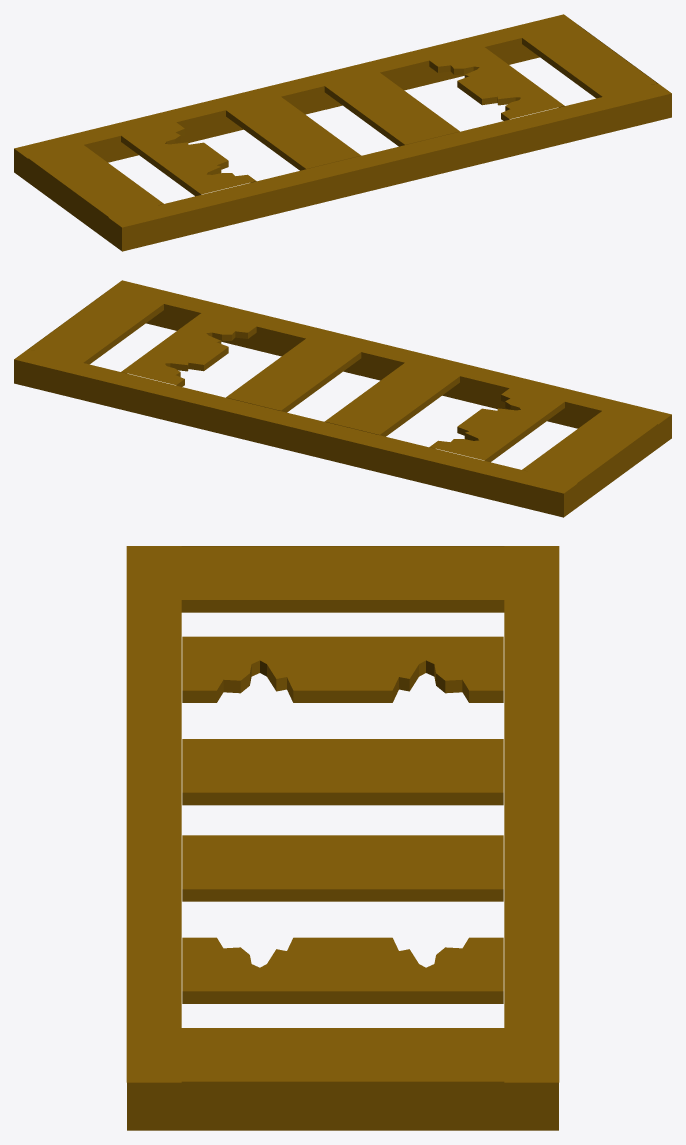
The model's file is Ponte.fbx.
3 views of the same model, one above another, from view 1: azimuth 30°, elevation 25°; view 2: azimuth 150°, elevation 25°; view 3: azimuth 270°, elevation 25° (orthographic). The views are drawn at different scales.
Parts seen in each view (by area): view 1: Cubo; view 2: Cubo; view 3: Cubo.
Boxes of the visible parts, x1,y1,x2,y2 form: Cubo: [14, 14, 671, 251]; Cubo: [14, 280, 671, 517]; Cubo: [126, 546, 559, 1130].
Size of the model in its own units: 1562 by 65.8 by 532.
